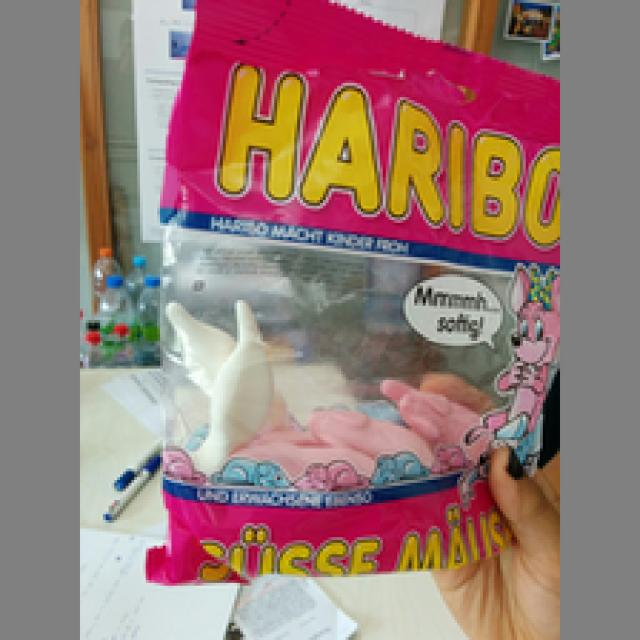groceries: (149, 0, 557, 583)
